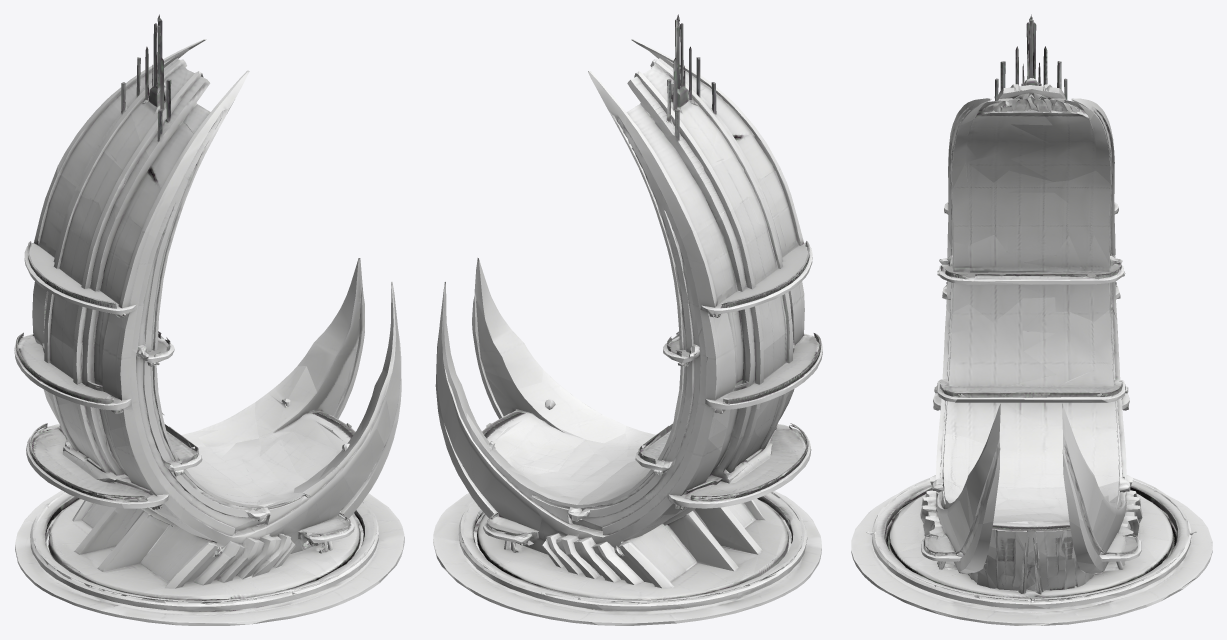
Rendered from tower-crescent2-mesh.glb.
3 views of the same model, side by side, from view 1: azimuth 30°, elevation 25°; view 2: azimuth 150°, elevation 25°; view 3: azimuth 270°, elevation 25° (orthographic). The views are drawn at different scales.
Visible parts, largest first — view 1: Mesh_0; view 2: Mesh_0; view 3: Mesh_0.
Part boxes in pixels (x1,y1,x2,y2): Mesh_0: (14,14,404,625); Mesh_0: (433,14,822,625); Mesh_0: (851,14,1212,625).
Size of the model in its own units: 1.27 by 1.9 by 1.22.
1 material, 1 textured.
